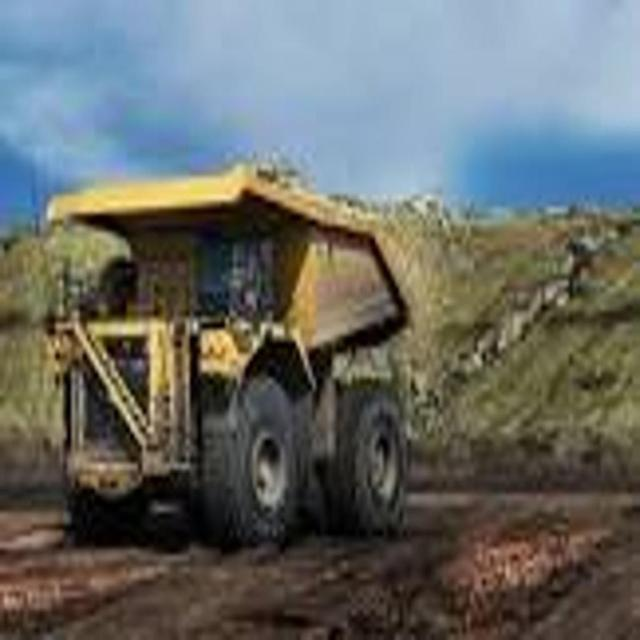dump_truck: (38, 143, 410, 545)
